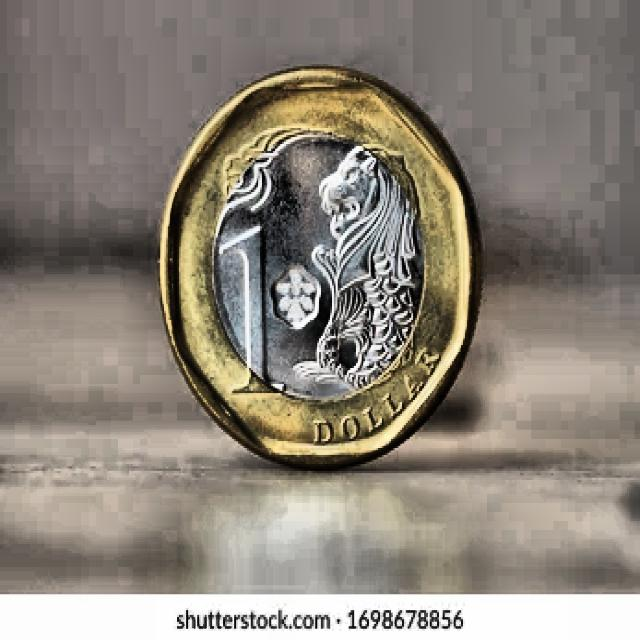coin: (160, 69, 478, 464)
